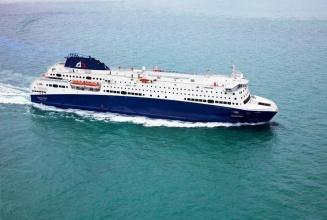youlun: (21, 56, 283, 130)
